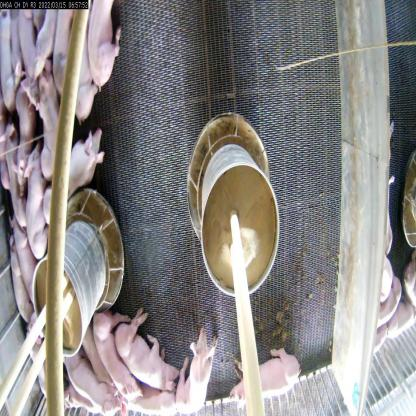Pig: (45, 1, 95, 131), (110, 298, 176, 395), (40, 132, 115, 212), (90, 309, 140, 416), (233, 338, 302, 401), (172, 323, 214, 415), (82, 0, 126, 86), (31, 67, 62, 176), (22, 146, 49, 271)
